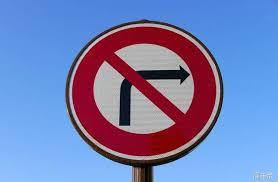no_right_turn: (70, 25, 217, 155)
